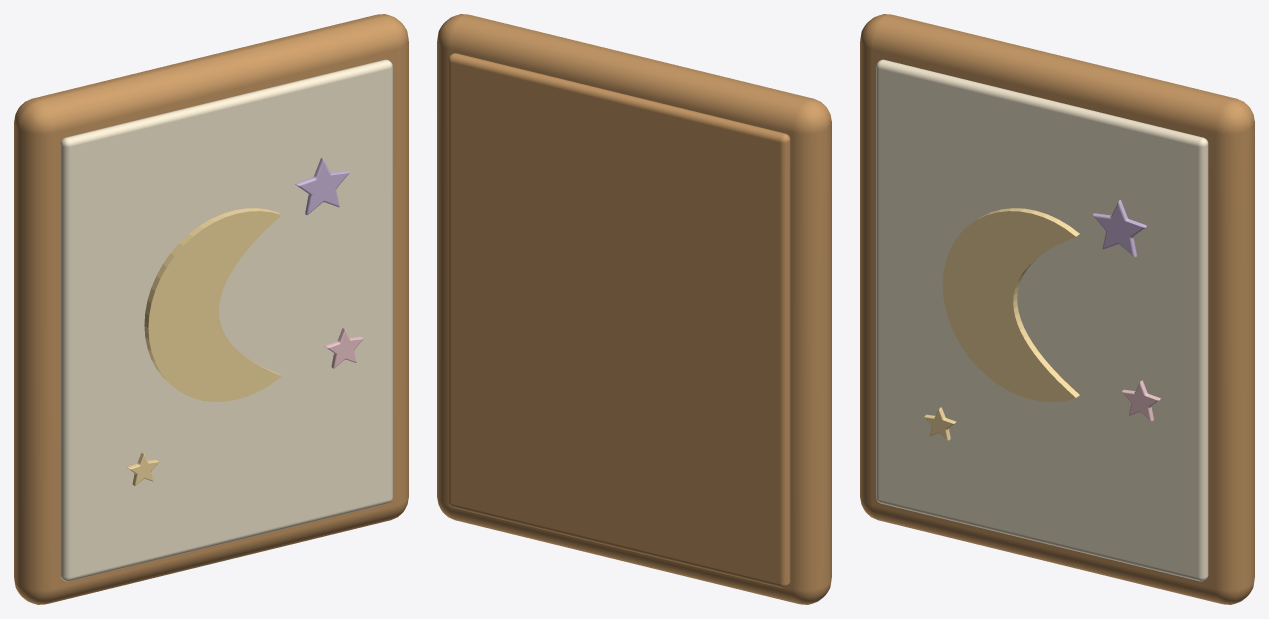
File: WallArtMoon.fbx
The picture shows the model from 3 angles, left to right: view 1: azimuth 30°, elevation 25°; view 2: azimuth 150°, elevation 25°; view 3: azimuth 330°, elevation 25°; orthographic projection.
Visible parts, largest first — view 1: Inset ivory canvas, Rounded maple frame, Crescent moon, Puffy star, Puffy star.001, Puffy star.002; view 2: Back panel, Rounded maple frame; view 3: Inset ivory canvas, Rounded maple frame, Crescent moon, Puffy star, Puffy star.001, Puffy star.002.
Part boxes in pixels (x1,y1,x2,y2): Inset ivory canvas: (60,59,392,581); Rounded maple frame: (14,14,408,604); Crescent moon: (144,208,281,401); Puffy star: (295,157,349,214); Puffy star.001: (324,327,363,368); Puffy star.002: (127,452,158,485); Back panel: (448,53,790,587); Rounded maple frame: (437,14,831,604); Inset ivory canvas: (876,59,1208,581); Rounded maple frame: (860,14,1254,604); Crescent moon: (942,208,1079,401); Puffy star: (1092,200,1146,257); Puffy star.001: (1122,380,1160,421); Puffy star.002: (924,407,956,440).
Size of the model in its own units: 0.5 by 0.62 by 0.1.
Materials: 5 (2 with a texture image).
